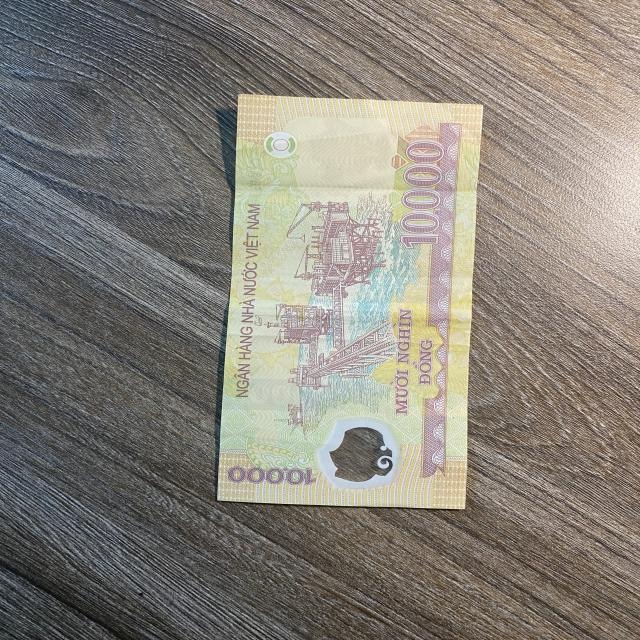10 000 VND: (213, 94, 483, 510)
